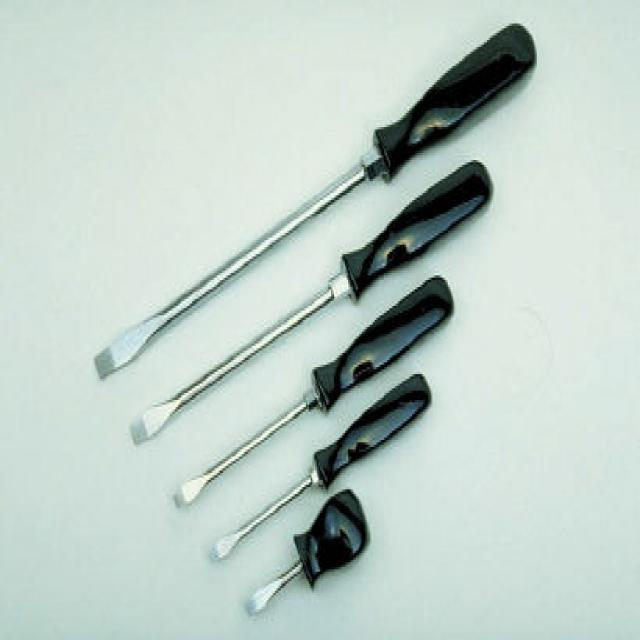screwdriver: (64, 18, 544, 396), (130, 153, 514, 487), (152, 271, 474, 528), (201, 376, 453, 578), (244, 491, 364, 637)
